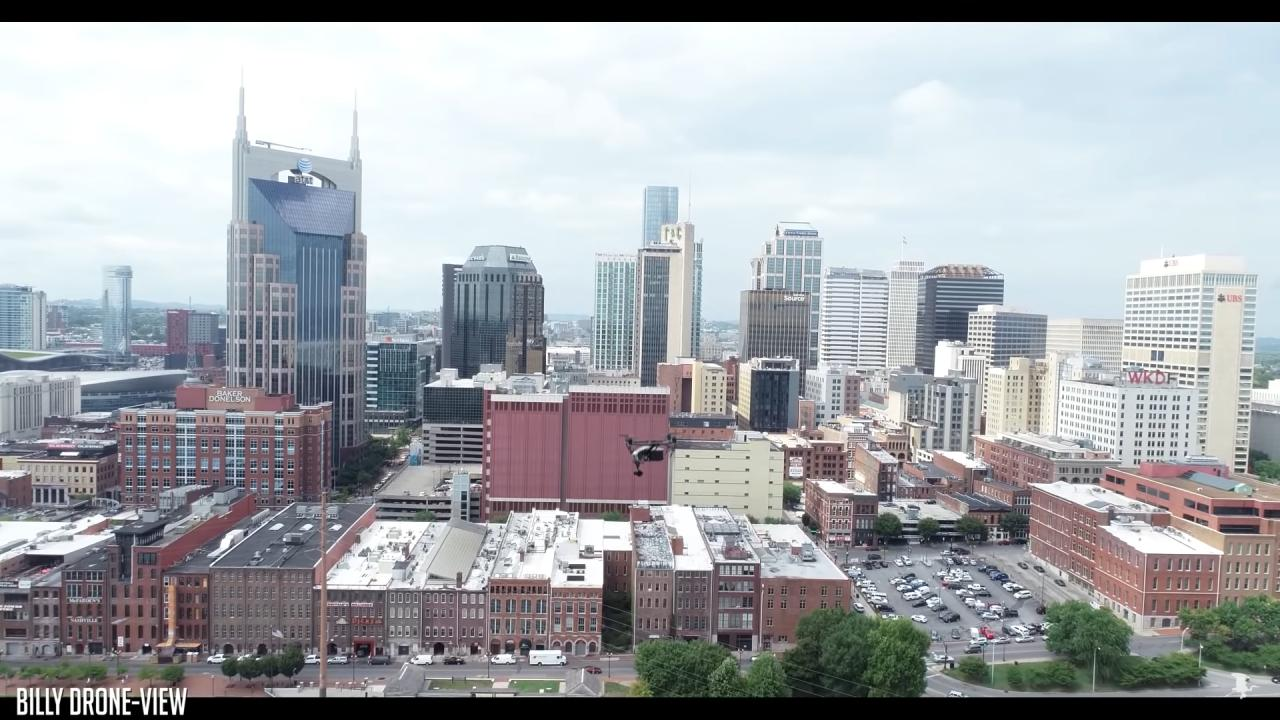Drone: (612, 422, 685, 485)
